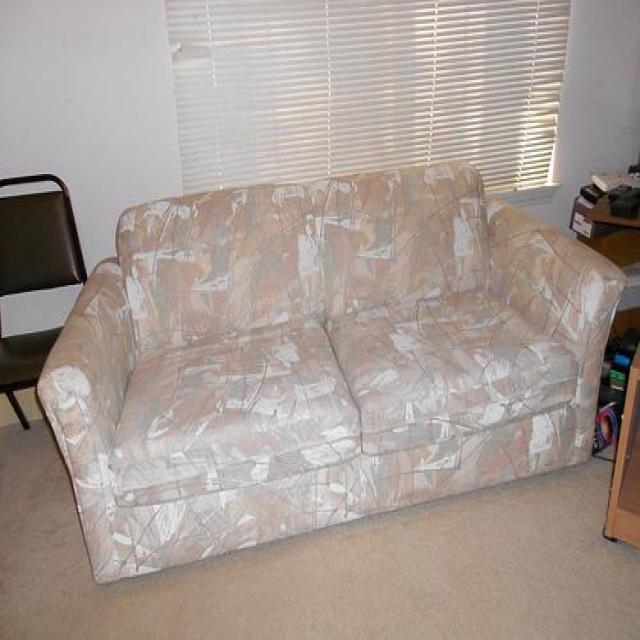sofa: (33, 157, 626, 585)
